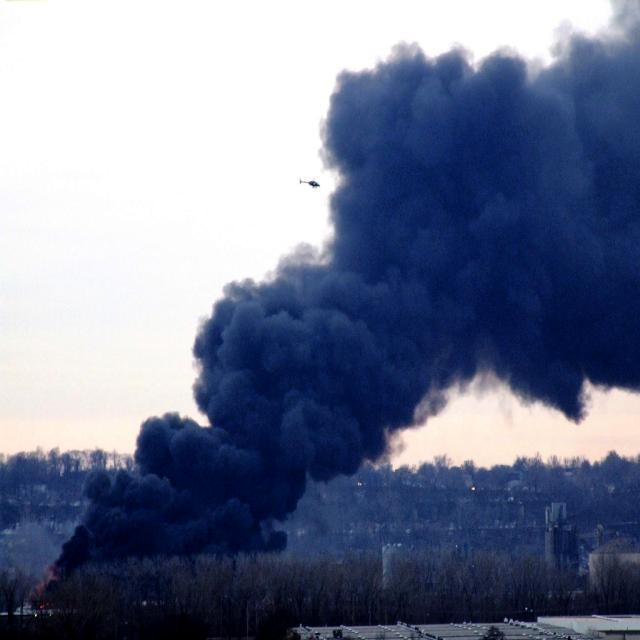Smoke: (45, 0, 640, 569)
